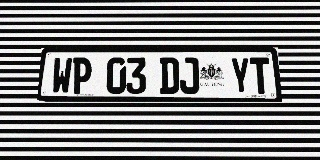0: (106, 58, 126, 94)
3: (126, 58, 146, 94)
D: (160, 58, 179, 94)
J: (179, 58, 199, 94)
P: (71, 58, 92, 94)
T: (250, 57, 271, 94)
W: (51, 58, 73, 94)
Y: (230, 58, 251, 94)
